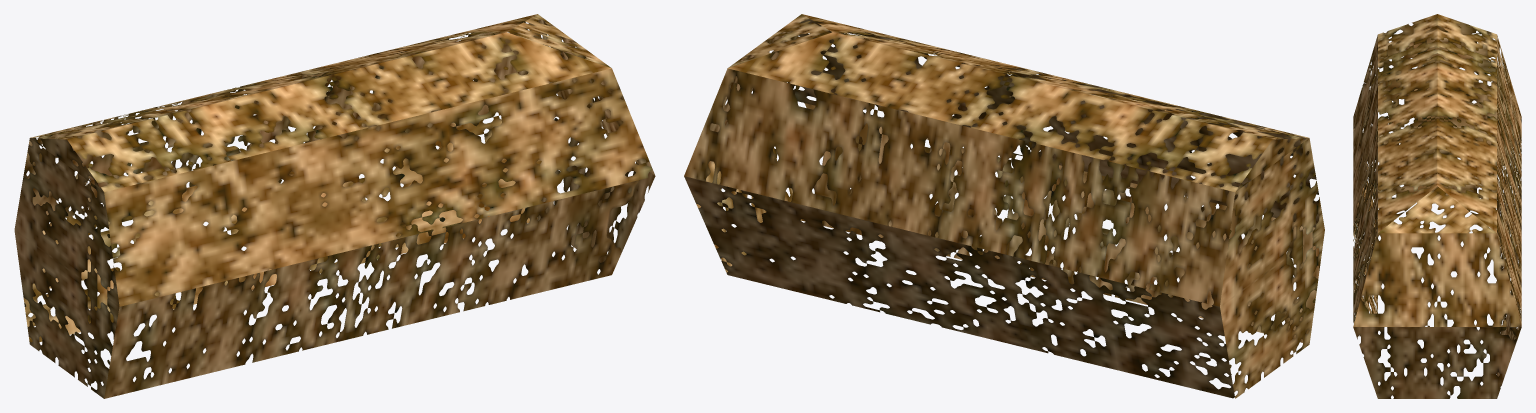
The model's file is bush_long_open_right_autumn.fbx.
The picture shows the model from 3 angles, left to right: view 1: azimuth 30°, elevation 25°; view 2: azimuth 150°, elevation 25°; view 3: azimuth 270°, elevation 25°; orthographic projection. The views are drawn at different scales.
Visible parts, largest first — view 1: bush_long_open_right_autumn; view 2: bush_long_open_right_autumn; view 3: bush_long_open_right_autumn.
Part boxes in pixels (bbox=[...]): bush_long_open_right_autumn: bbox=[14, 14, 655, 398]; bush_long_open_right_autumn: bbox=[684, 14, 1324, 398]; bush_long_open_right_autumn: bbox=[1353, 14, 1521, 398].
Size of the model in its own units: 212 by 87.65 by 71.92.
1 material, 1 textured.
